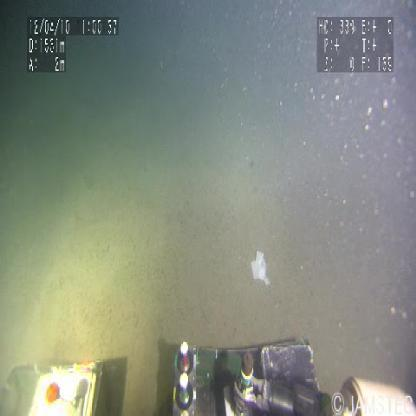Rác: (251, 245, 280, 292)
